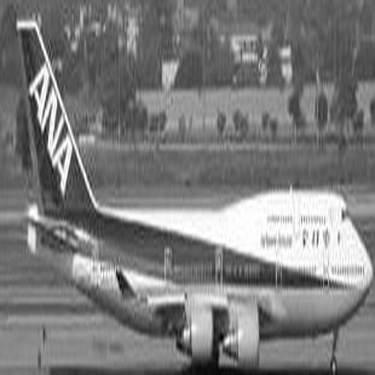airplane: (1, 3, 374, 373)
